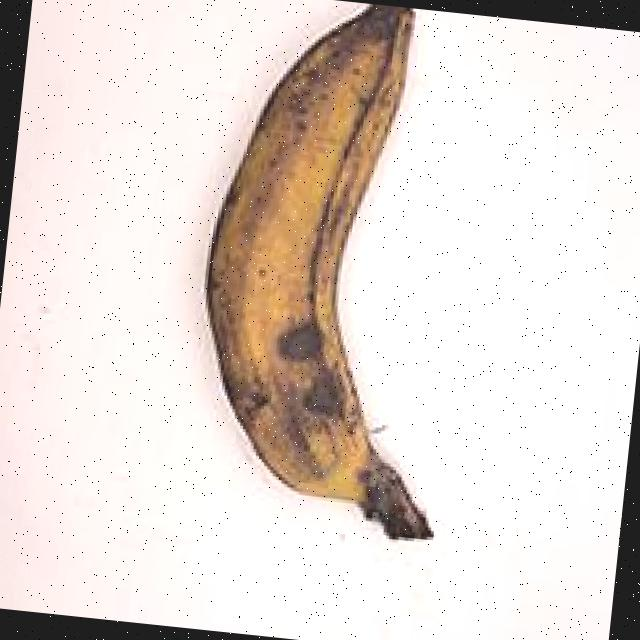Overripe: (125, 0, 544, 565)
